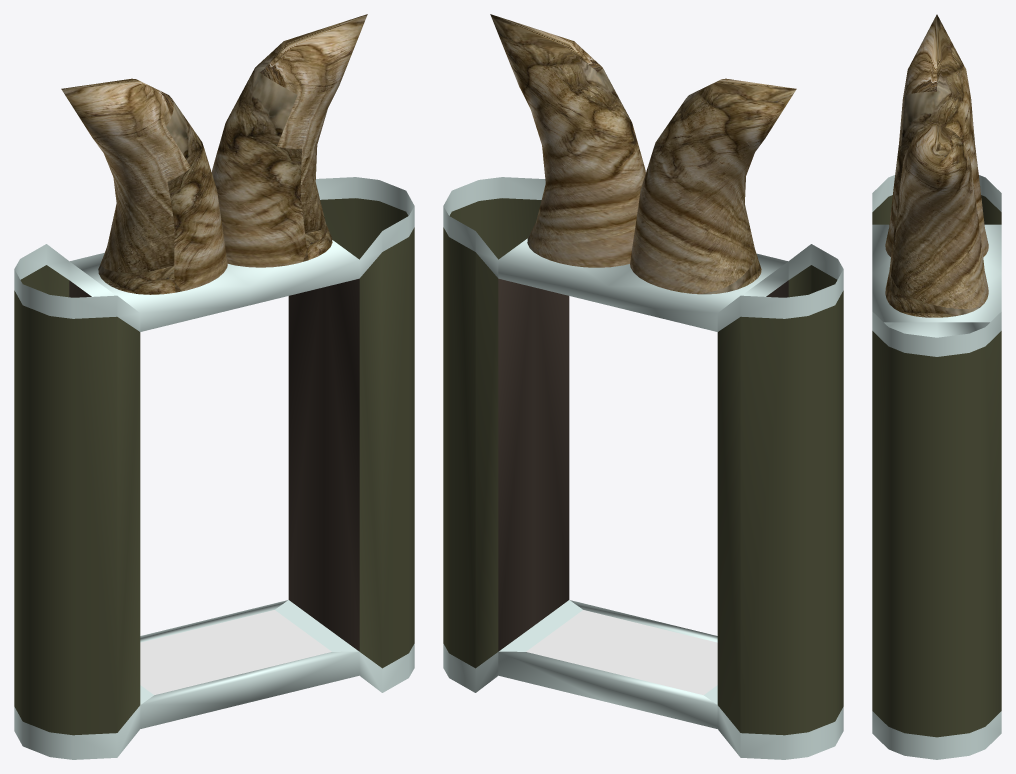
File: GateOfIvory.glb
3 views of the same model, side by side, from view 1: azimuth 30°, elevation 25°; view 2: azimuth 150°, elevation 25°; view 3: azimuth 270°, elevation 25° (orthographic). The views are drawn at different scales.
Parts seen in each view (by area): view 1: Cube, Cone, Cube.003, Top, Cube.002, Cube.001; view 2: Cube, Cone, Cube.003, Top, Cube.002, Cube.001; view 3: Cube, Cone, Top, Cube.002.
Part boxes in pixels (x1,y1,x2,y2): Cube: (14, 198, 414, 735); Cone: (61, 14, 367, 294); Cube.003: (69, 278, 359, 651); Top: (14, 177, 414, 331); Cube.002: (14, 600, 414, 759); Cube.001: (140, 610, 331, 694); Cube: (443, 198, 843, 735); Cone: (490, 14, 796, 294); Cube.003: (498, 278, 788, 651); Top: (443, 177, 843, 331); Cube.002: (443, 600, 843, 759); Cube.001: (526, 610, 717, 694); Cube: (872, 195, 1001, 737); Cone: (885, 14, 988, 317); Top: (872, 175, 1001, 356); Cube.002: (872, 711, 1001, 759).
Bounding box in the file's own units: 4.34 × 7.01 × 1.39.
Materials: 6 (1 with a texture image).
